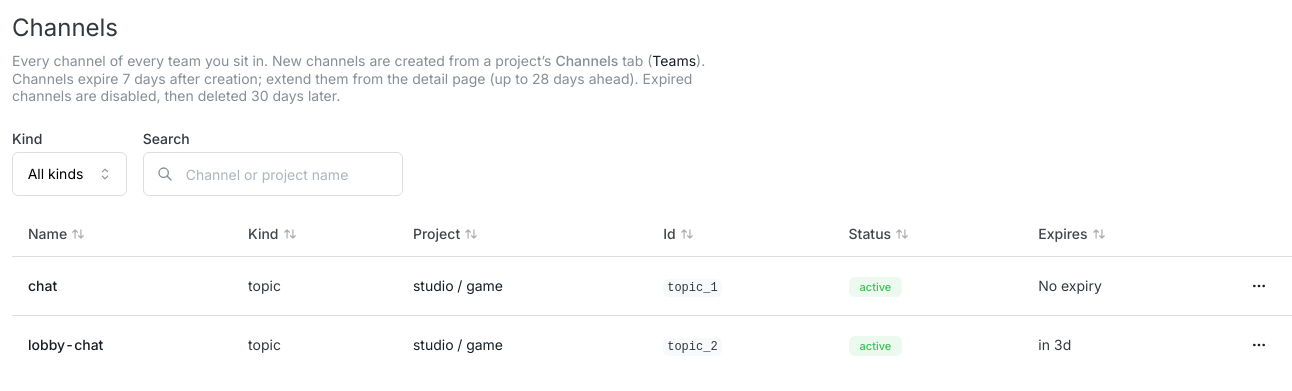
it: a channel granted no expiry › lists it as No expiry with no extend in its row menu
This screenshot has width=1292, height=391.
Expected: the text "No expiry" is shown, [1022,257,1226,316]
Click the button named "Actions for chat" at (1259,286), box [1242,269,1276,303]
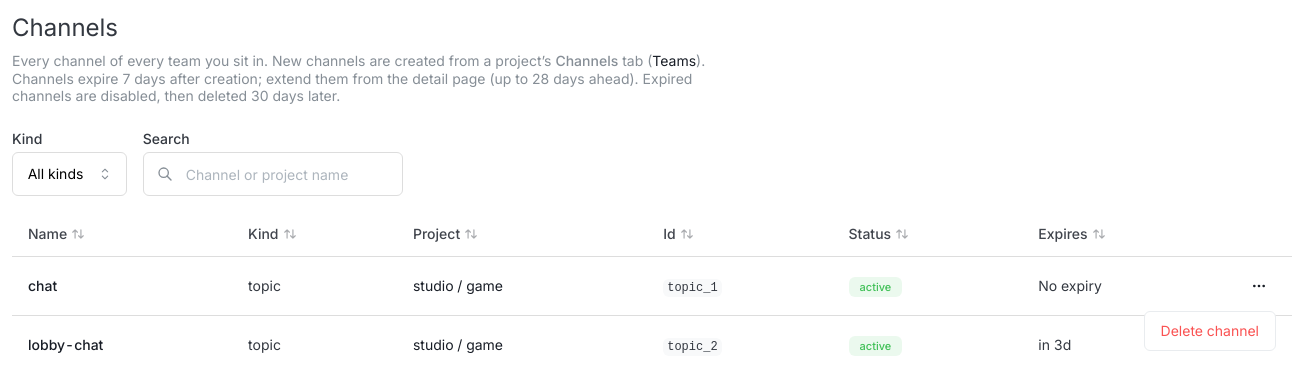
Expected: the menu item "Extend +7 days" is not shown
Now the menu item "Delete channel" is shown, box [1149,316,1271,346]
Press Escape
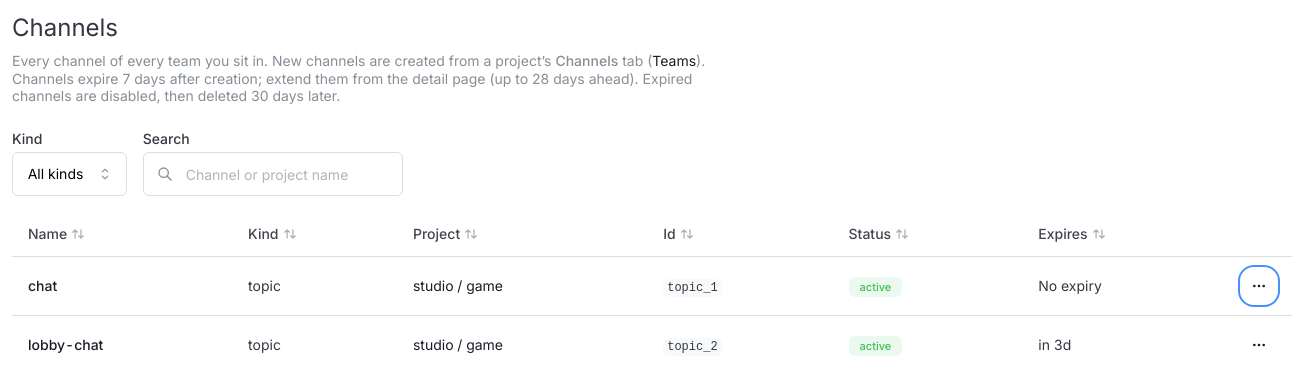
Expected: the text "in 3d" is shown, [1022,316,1226,374]
Click the button named "Actions for lobby-chat" at (1259,345), box [1242,328,1276,362]
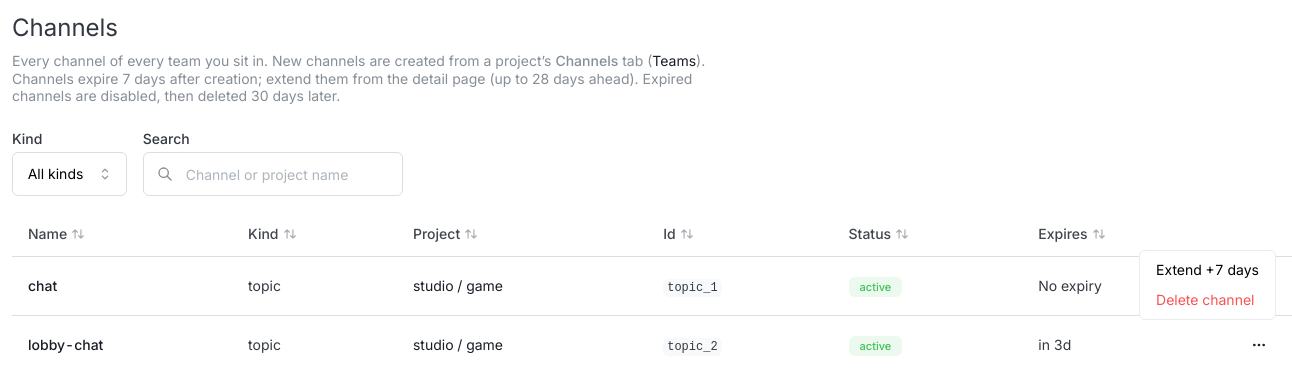
Now the menu item "Extend +7 days" is shown, box [1144,255,1271,285]
